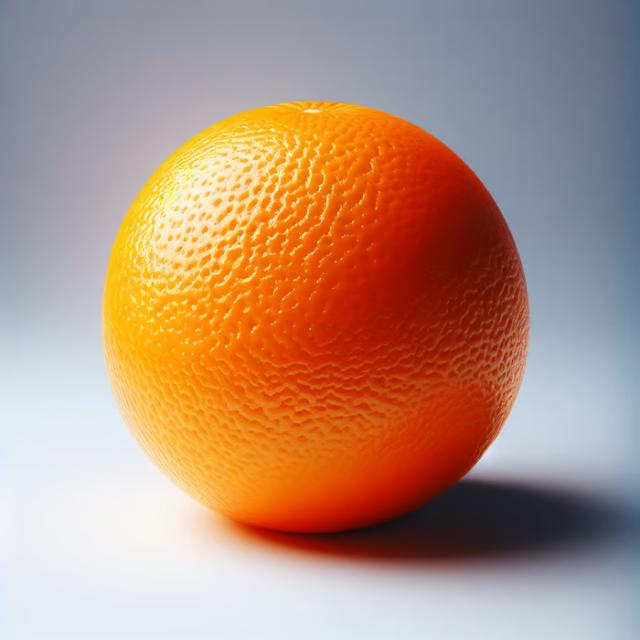orange: (104, 105, 534, 534)
